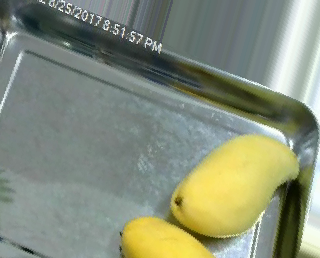Mango: (167, 131, 300, 238), (117, 216, 213, 256)
